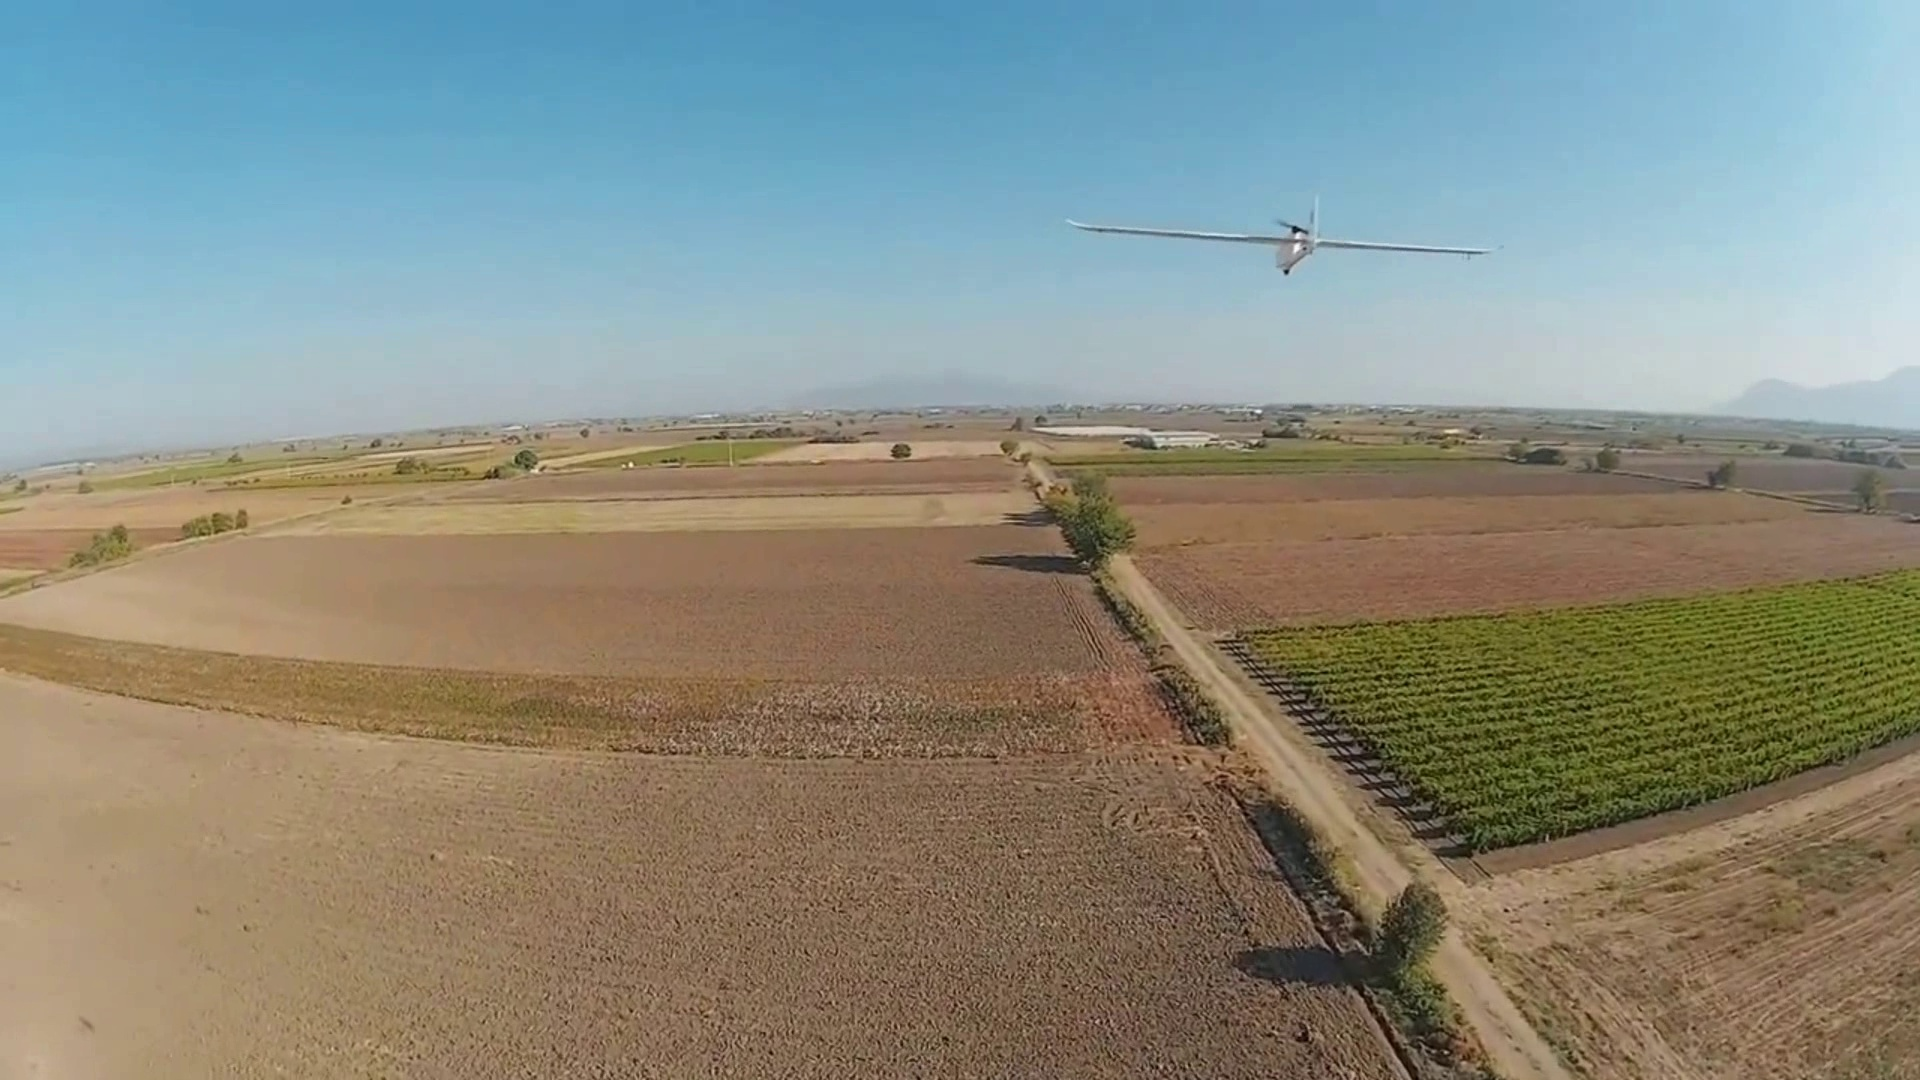airplane: (1065, 206, 1497, 274)
